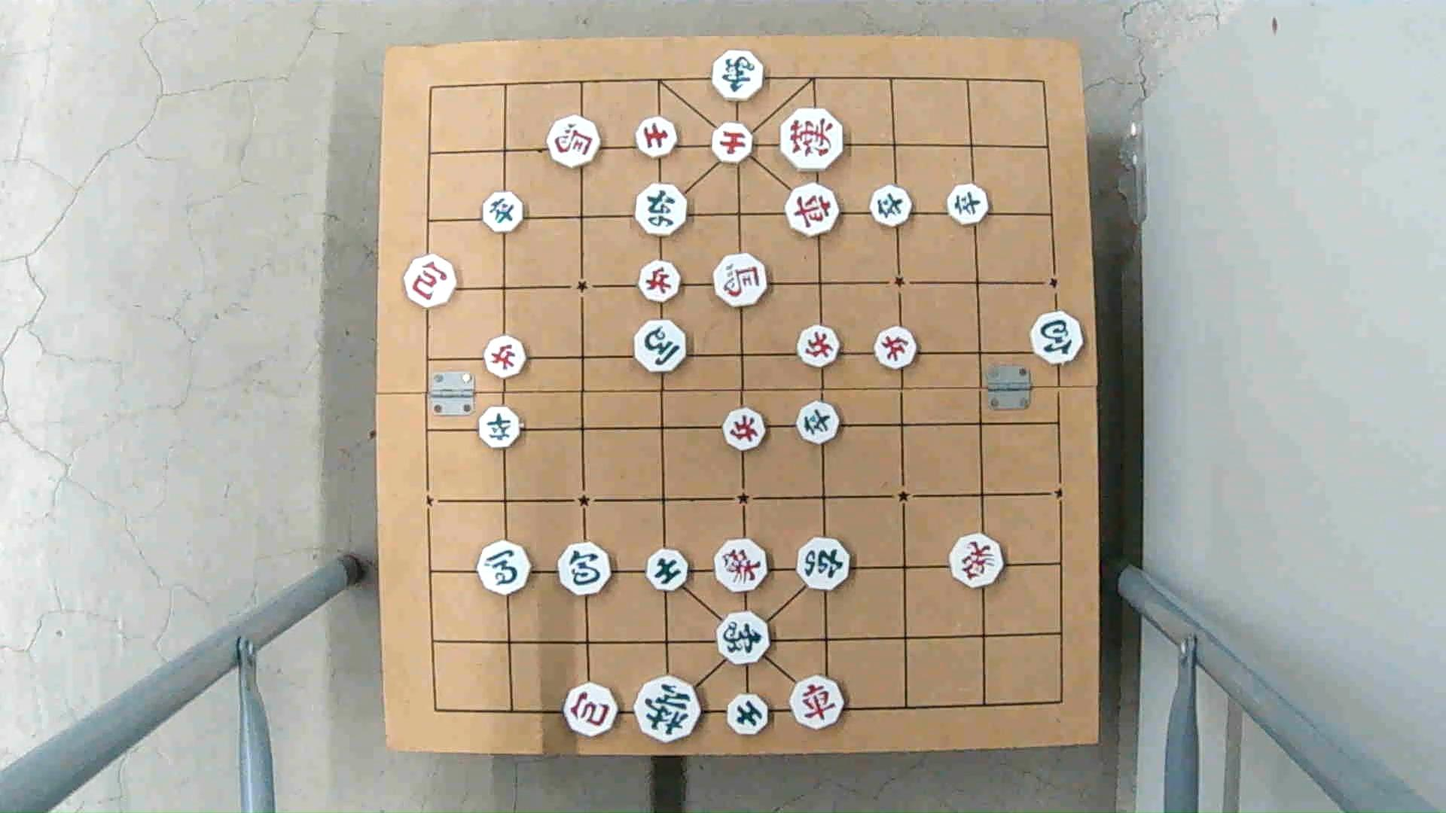cha_green: (633, 187, 689, 236), (797, 538, 852, 586)
cha_red: (786, 182, 844, 231), (789, 678, 845, 728)
jol_green: (796, 399, 843, 445), (481, 193, 526, 233), (475, 410, 522, 448), (947, 187, 991, 224), (869, 187, 913, 224)
jol_red: (874, 326, 919, 369), (795, 325, 841, 367), (721, 412, 768, 451), (637, 263, 683, 302), (482, 338, 528, 376)
ma_green: (476, 546, 532, 594), (635, 324, 689, 373)
ma_red: (713, 257, 770, 306), (546, 117, 602, 164)
po_green: (1028, 314, 1085, 362), (558, 546, 614, 594)
po_red: (563, 687, 621, 735), (401, 257, 458, 305)
sa_green: (724, 696, 773, 735), (644, 552, 691, 591)
sa_red: (707, 123, 757, 161), (635, 117, 680, 157)
sang_green: (708, 50, 768, 101), (715, 614, 772, 662)
sang_red: (950, 537, 1005, 587), (715, 539, 767, 588)
wang_green: (635, 678, 704, 741)
wang_red: (780, 108, 844, 169)
